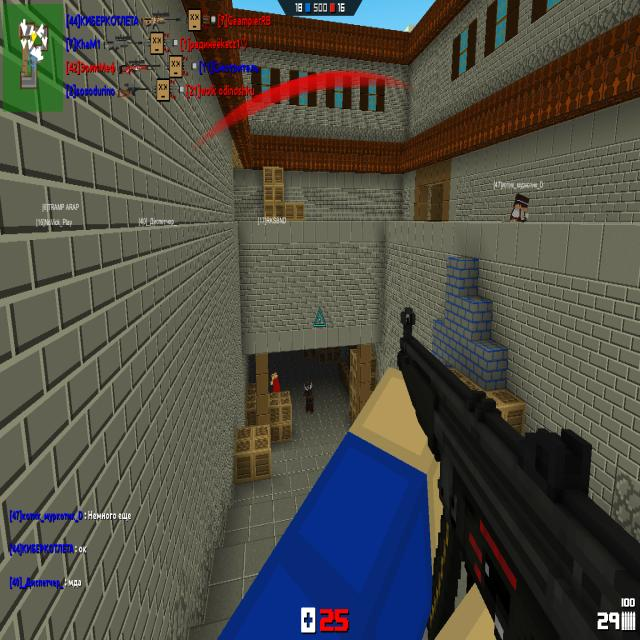enemy: (303, 378, 314, 412), (270, 371, 280, 392)
